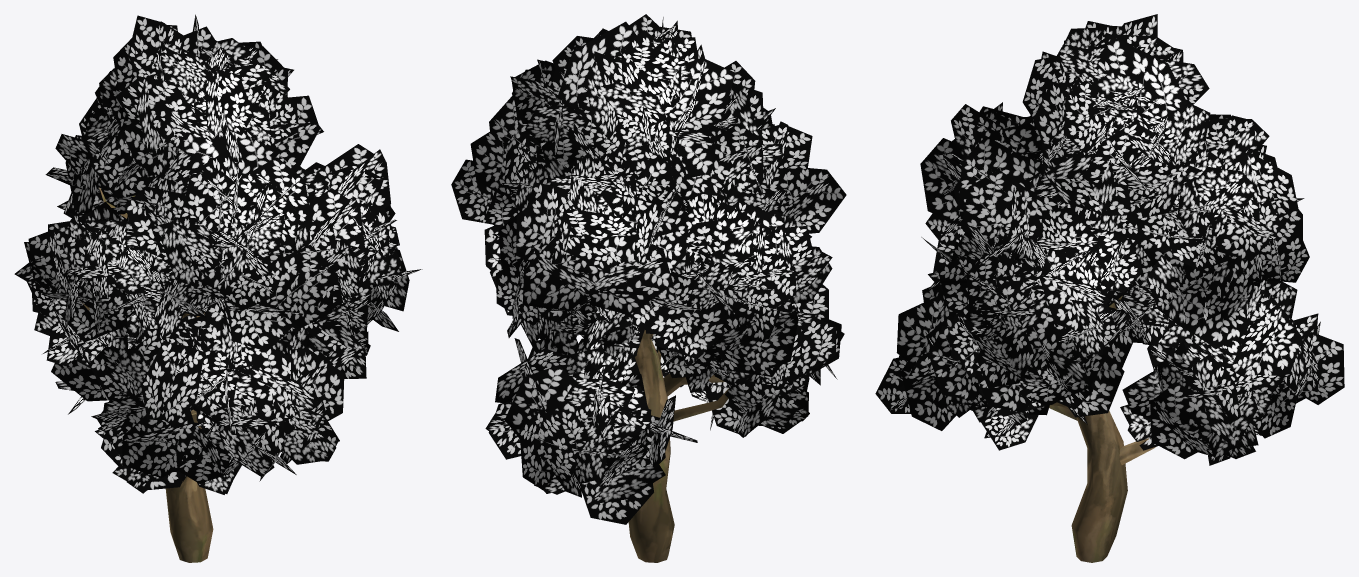
File: P_OakTree3_Snow.obj
3 renders of one model, left to right at view 1: azimuth 30°, elevation 25°; view 2: azimuth 150°, elevation 25°; view 3: azimuth 270°, elevation 25°, orthographic. The views are drawn at different scales.
Size of the model in its own units: 12.53 by 17.94 by 14.37.
